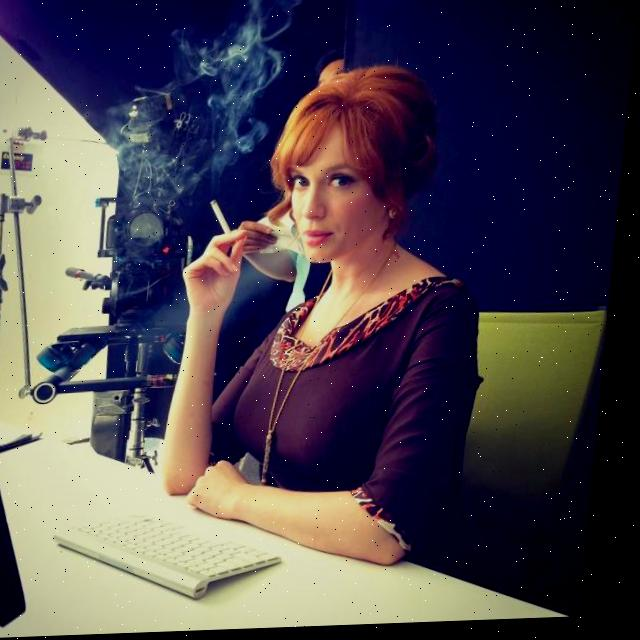cigarette: (211, 202, 238, 240)
